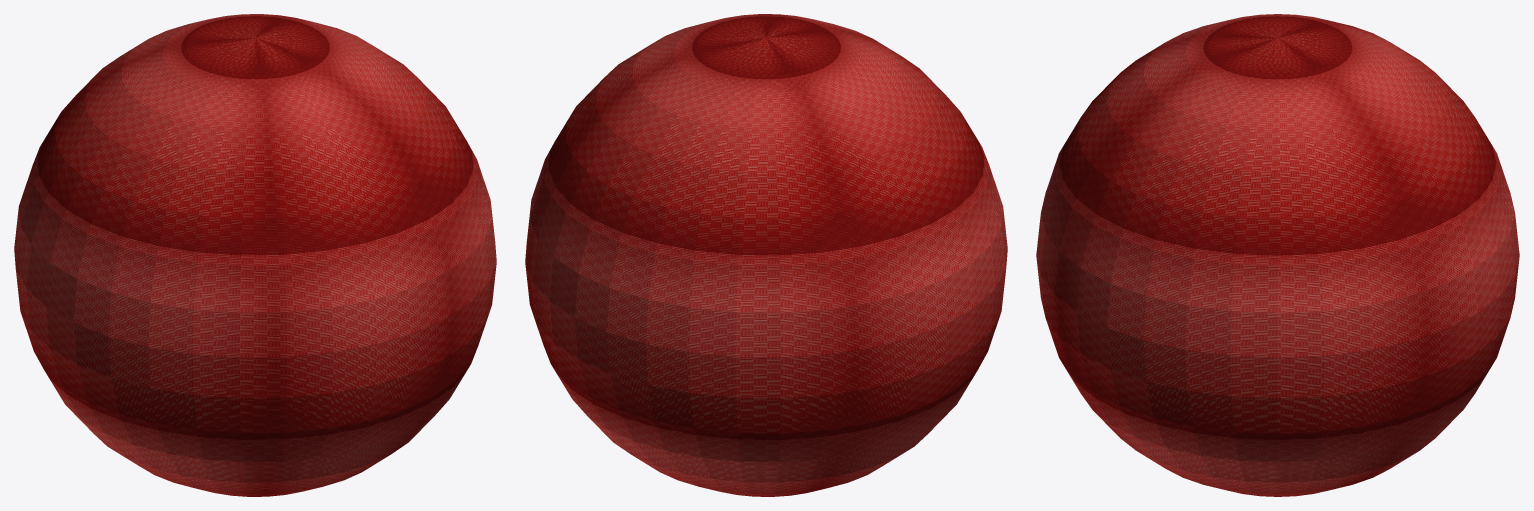
The model's file is dodgeball.obj.
The picture shows the model from 3 angles, left to right: view 1: azimuth 30°, elevation 25°; view 2: azimuth 150°, elevation 25°; view 3: azimuth 270°, elevation 25°; orthographic projection.
Parts seen in each view (by area): view 1: Sphere; view 2: Sphere; view 3: Sphere.
Boxes of the visible parts, x1,y1,x2,y2 form: Sphere: (14,14,496,496); Sphere: (525,14,1007,496); Sphere: (1036,14,1519,496).
Size of the model in its own units: 0.4638 by 0.4603 by 0.4638.
